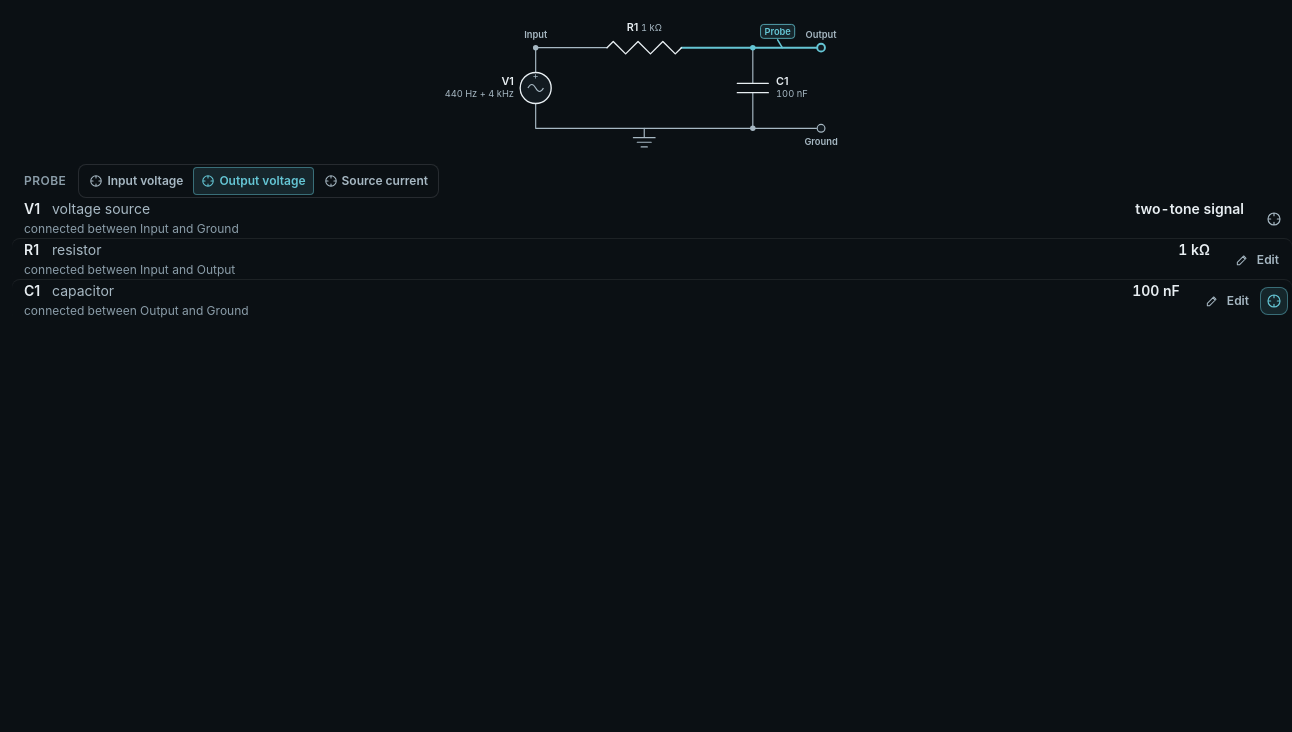
it: ComponentList and Schematic › Escape cancels an inline edit and returns focus to the row
Step 1. Click the button named "R1 — resistor" → {"x": 77, "y": 250}, box 12,239 -> 1222,280
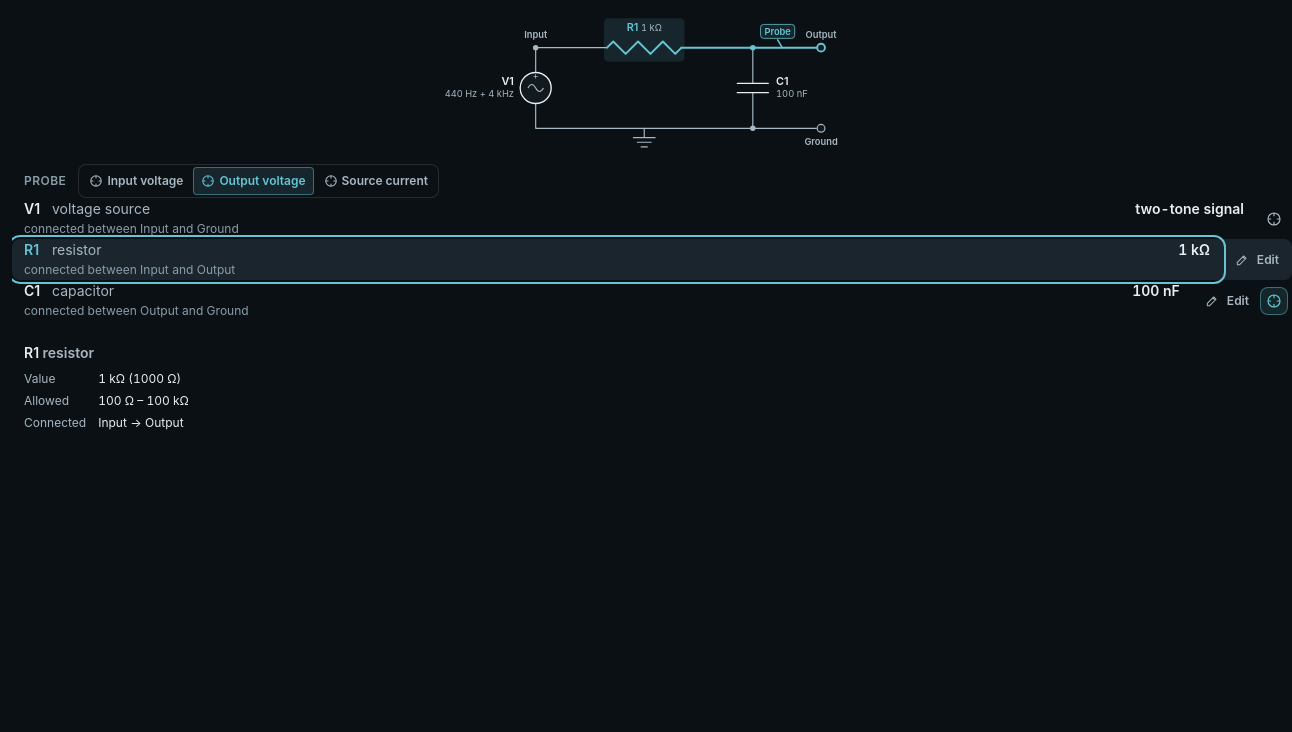
Step 2. Click the button with aria-label "Edit R1 value" → {"x": 1257, "y": 260}, box 1226,246 -> 1288,274
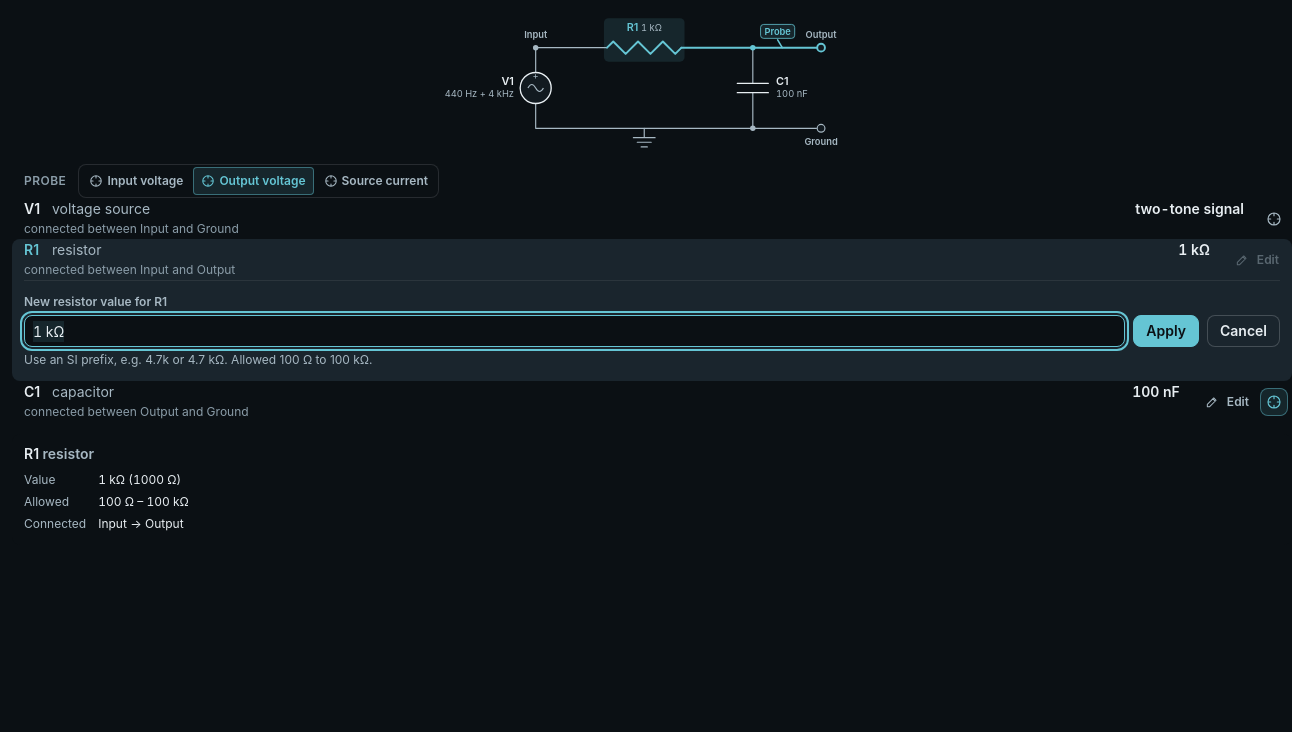
Step 3. Press Escape
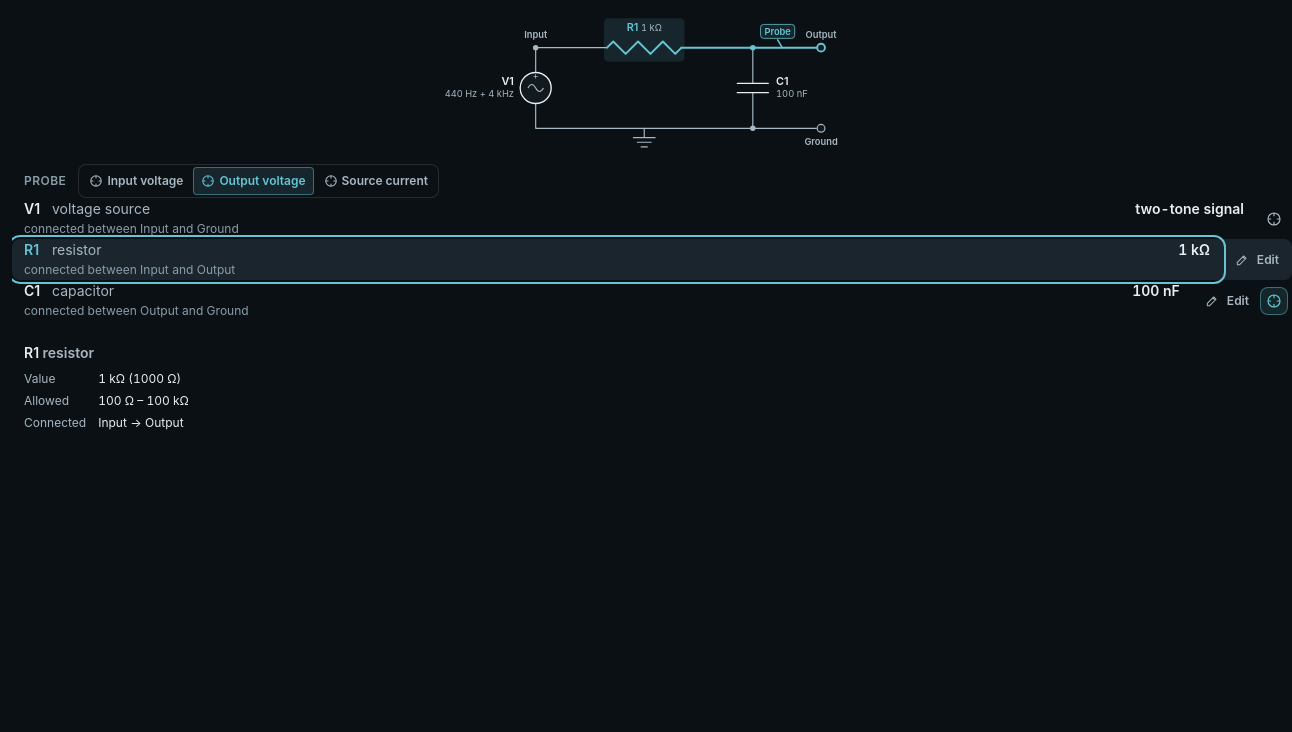
Expected: the label labelled "New resistor value for R1" is gone
